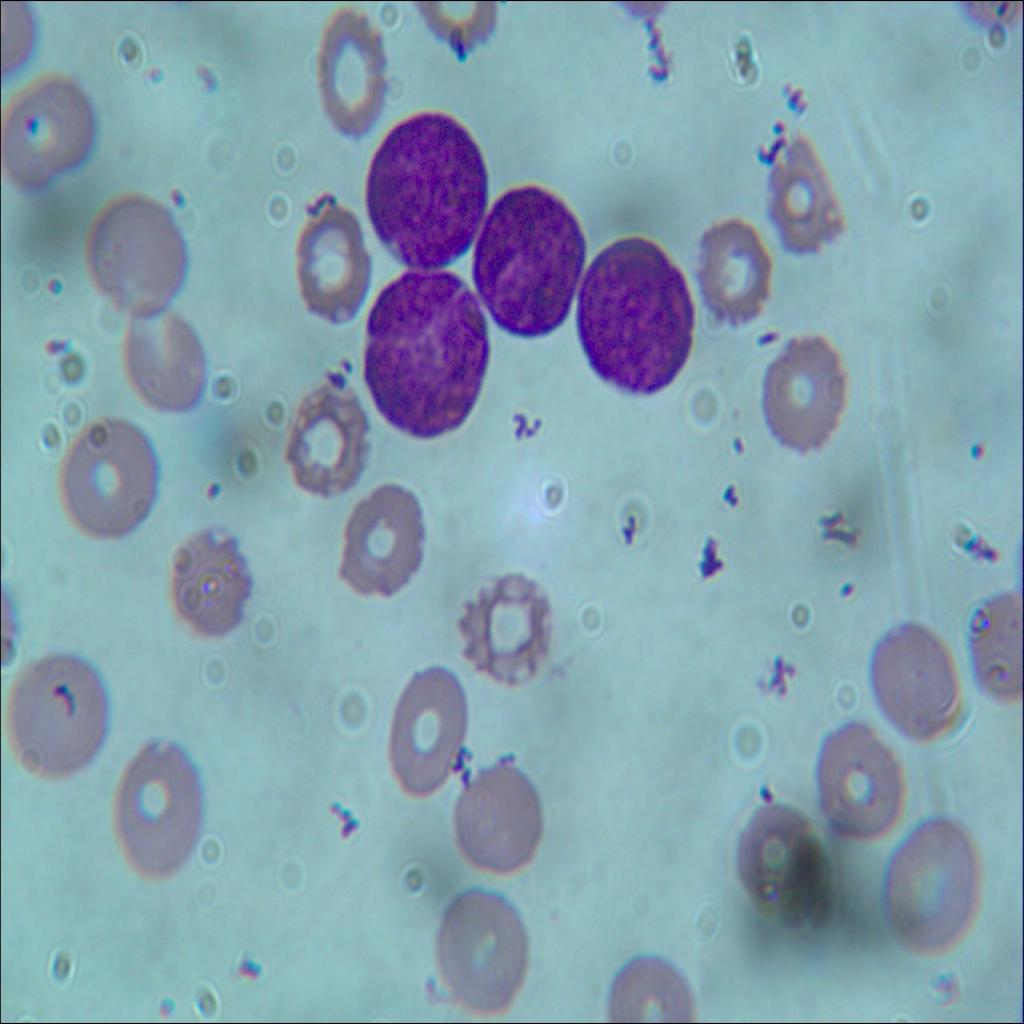Eritrosit: (108, 738, 204, 891), (51, 415, 162, 544), (0, 652, 110, 782), (809, 718, 913, 854), (868, 618, 976, 748), (455, 562, 559, 696), (886, 817, 984, 958), (81, 192, 190, 315), (333, 474, 433, 604), (450, 762, 558, 881), (382, 654, 468, 802), (279, 378, 373, 508), (0, 74, 108, 184), (166, 524, 255, 657), (434, 891, 526, 1011), (762, 337, 852, 458), (761, 141, 850, 258), (314, 2, 388, 141), (291, 195, 371, 322), (131, 304, 213, 425), (686, 216, 772, 328), (736, 797, 813, 914), (610, 950, 701, 1023)
Limfoblast: (361, 266, 489, 447), (571, 230, 693, 397), (363, 106, 486, 266), (470, 177, 586, 346)
Platelet: (958, 432, 988, 471), (38, 271, 70, 302), (334, 338, 358, 378), (322, 349, 346, 387), (198, 472, 224, 506), (758, 767, 776, 815), (833, 570, 858, 604), (168, 177, 190, 212), (18, 106, 39, 138), (731, 429, 748, 462)
